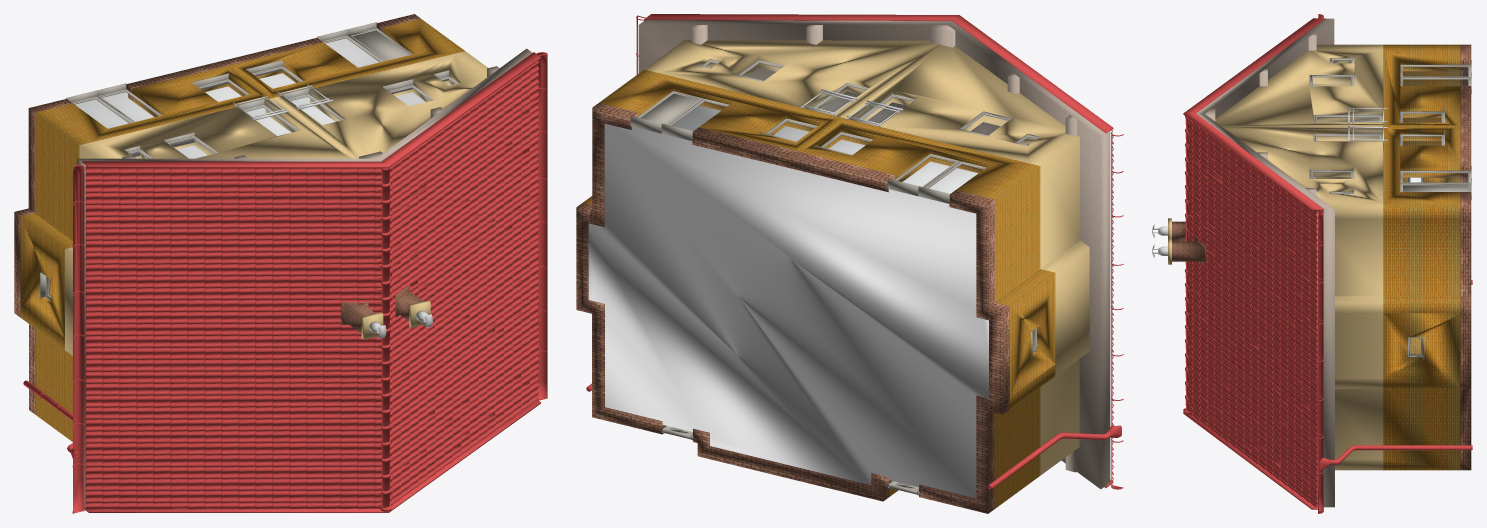
The model's file is house.glb.
3 renders of one model, left to right at view 1: azimuth 30°, elevation 25°; view 2: azimuth 150°, elevation 25°; view 3: azimuth 270°, elevation 25°, orthographic. The views are drawn at different scales.
Parts seen in each view (by area): view 1: Plane048, AvizstudioToolsATiles004, Object002, Object001, Box2146, Box2150, Line039, Rectangle477108, Box2134; view 2: Line039, Object001, Object002, Rectangle477108, Box2150, Plane048, Box2146, Box2134; view 3: AvizstudioToolsATiles004, Object002, Object001, Rectangle477108, Plane048, Box2150, Box2146, Box2134, Line039.
Part boxes in pixels (x1,y1,x2,y2): Plane048: [23, 52, 546, 513]; AvizstudioToolsATiles004: [40, 53, 547, 505]; Object002: [20, 18, 464, 441]; Object001: [65, 51, 487, 355]; Box2146: [40, 22, 458, 300]; Box2150: [14, 14, 423, 414]; Line039: [75, 38, 449, 158]; Rectangle477108: [77, 48, 532, 507]; Box2134: [239, 88, 322, 115]; Line039: [588, 89, 988, 498]; Object001: [644, 40, 1089, 475]; Object002: [583, 69, 1055, 508]; Rectangle477108: [638, 20, 1110, 489]; Box2150: [576, 103, 1009, 513]; Plane048: [586, 14, 1123, 489]; Box2146: [630, 59, 1040, 495]; Box2134: [808, 94, 894, 122]; AvizstudioToolsATiles004: [1188, 118, 1442, 513]; Object002: [1383, 44, 1460, 470]; Object001: [1168, 44, 1383, 470]; Rectangle477108: [1196, 18, 1334, 507]; Plane048: [1183, 14, 1472, 513]; Box2150: [1172, 44, 1471, 470]; Box2146: [1309, 56, 1471, 359]; Box2134: [1354, 110, 1420, 181]; Line039: [1348, 107, 1387, 142].
Size of the model in its own units: 15.98 by 11.15 by 10.76.
Materials: 8 (4 with a texture image).
